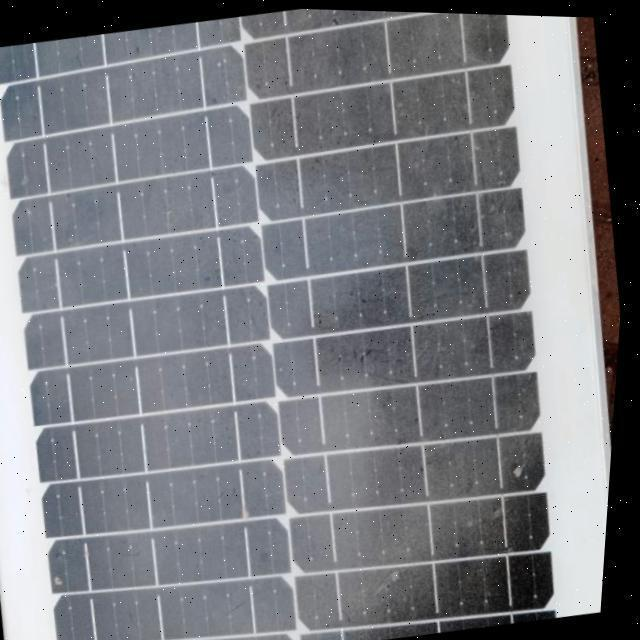Surface Contaminant: (0, 7, 587, 640)
